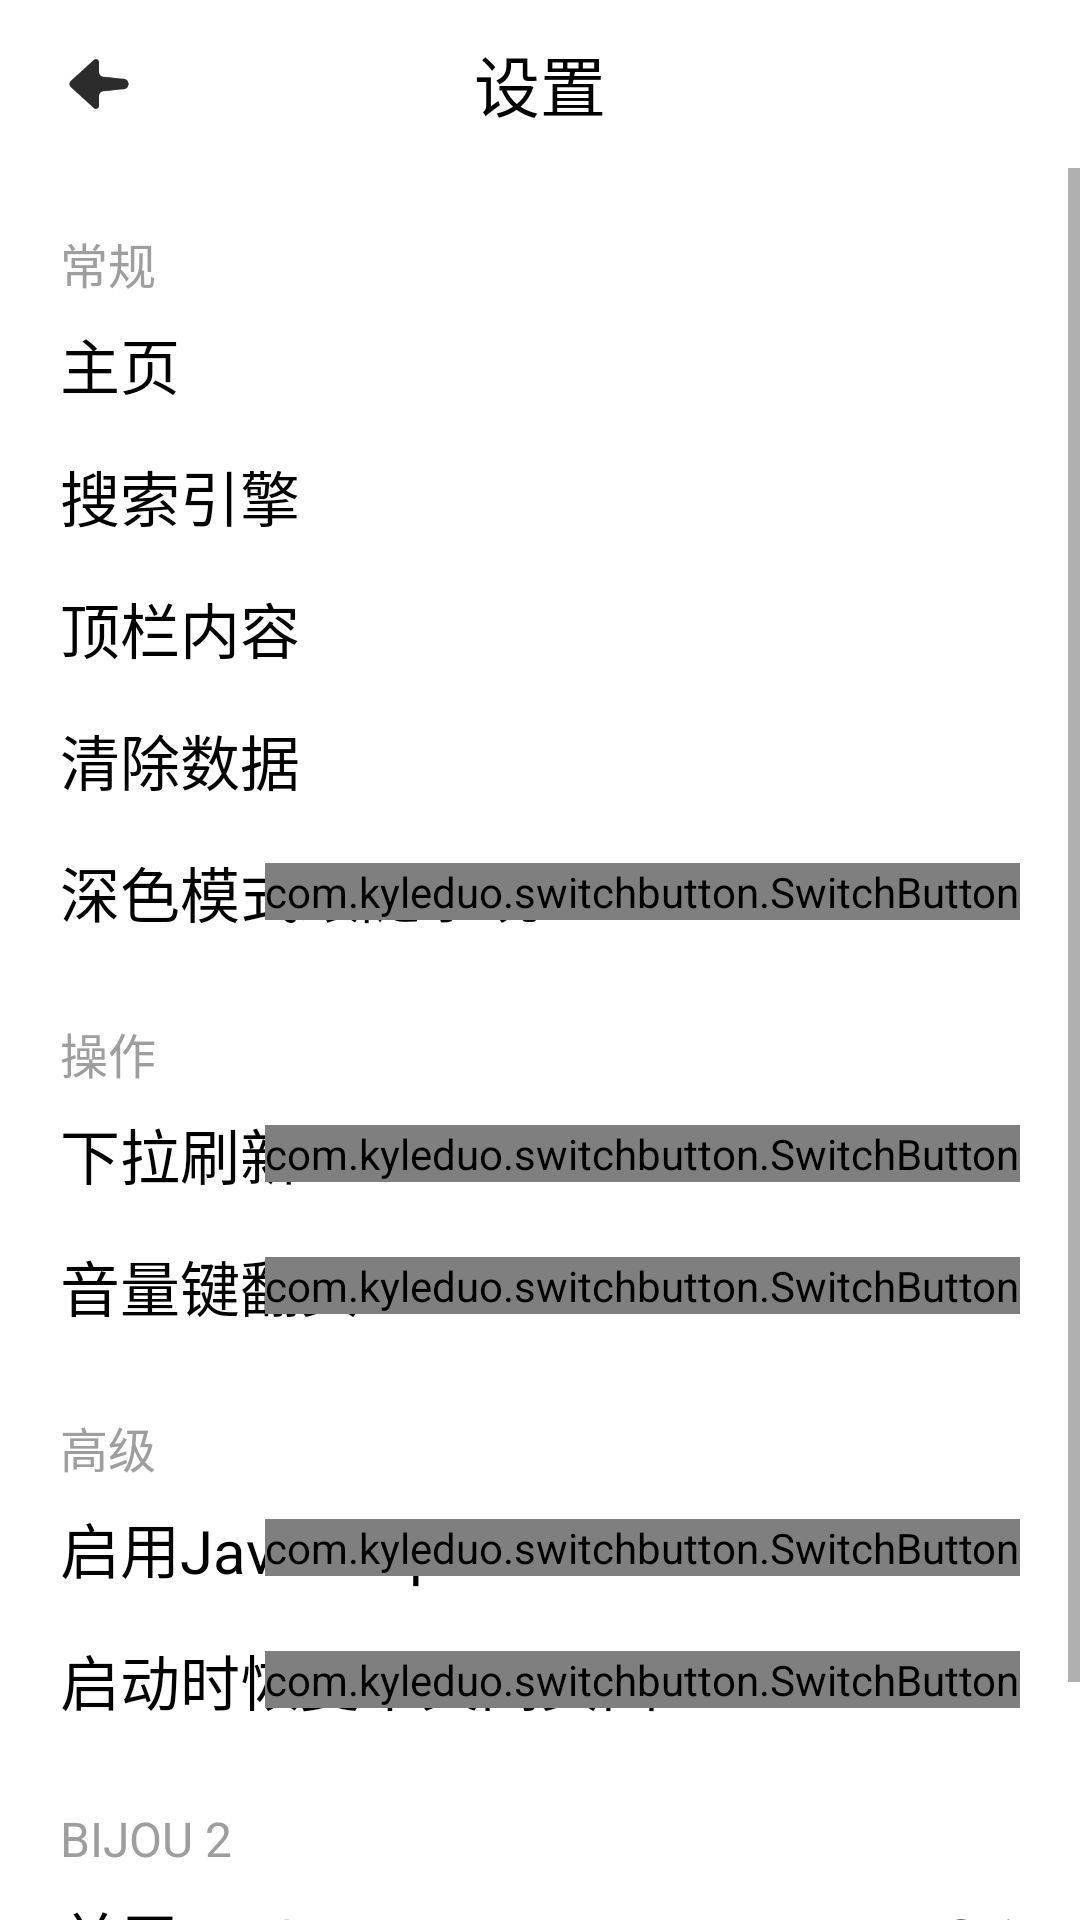

Screen size 1080x1920. Icon name, then its center in pixels as [x,y]:
back: [99,84]
